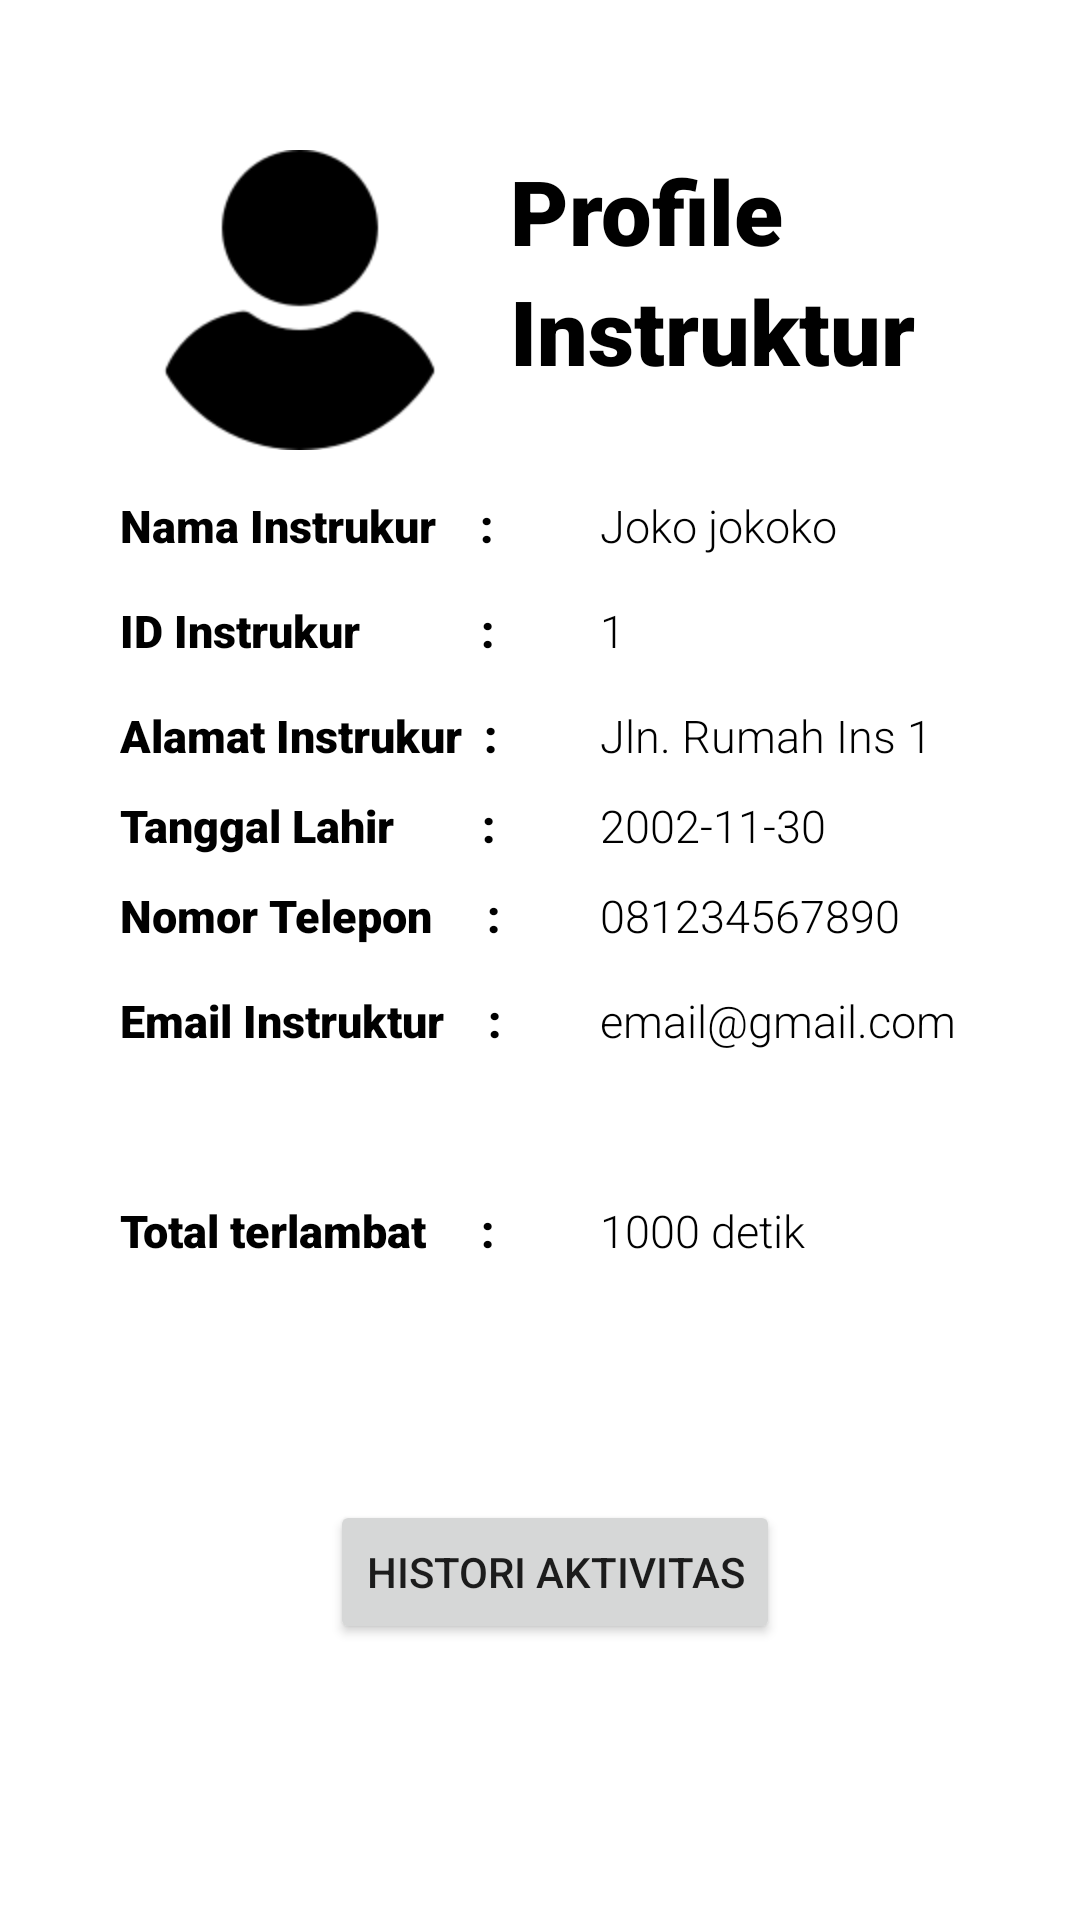

Icons on this 1080x1920 Android screen, each with the point to tap as [x,y]:
user: [300,300]
